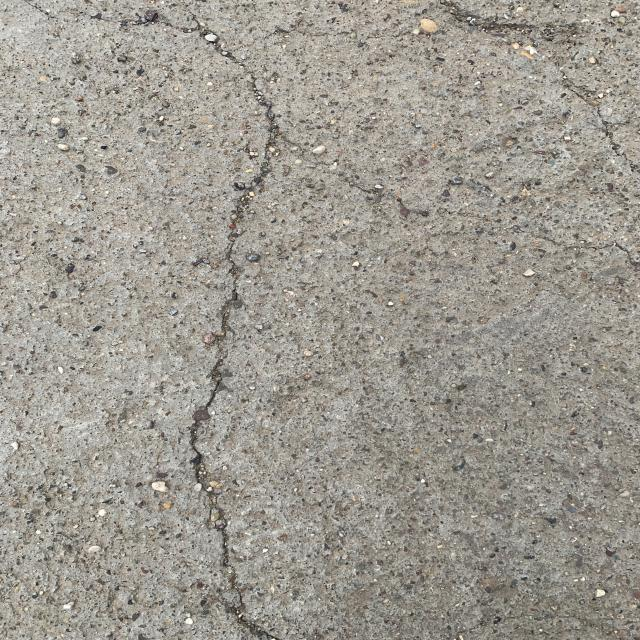vertical crack: (174, 0, 298, 640)
